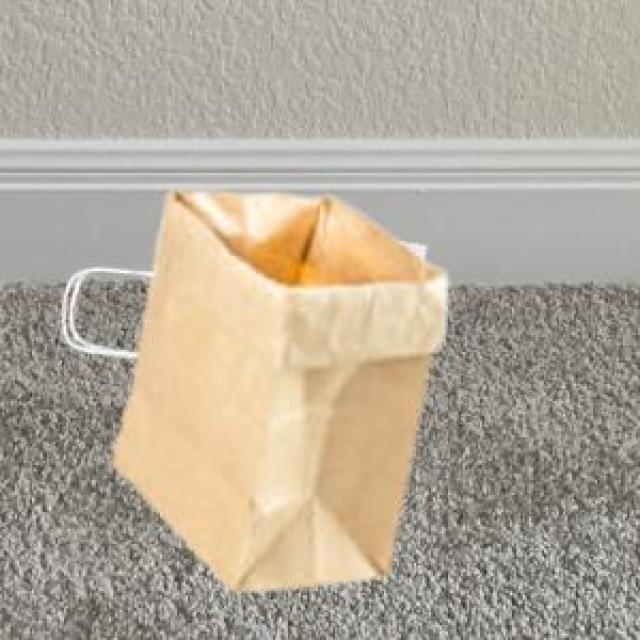paper: (109, 188, 442, 587), (58, 237, 425, 354)
